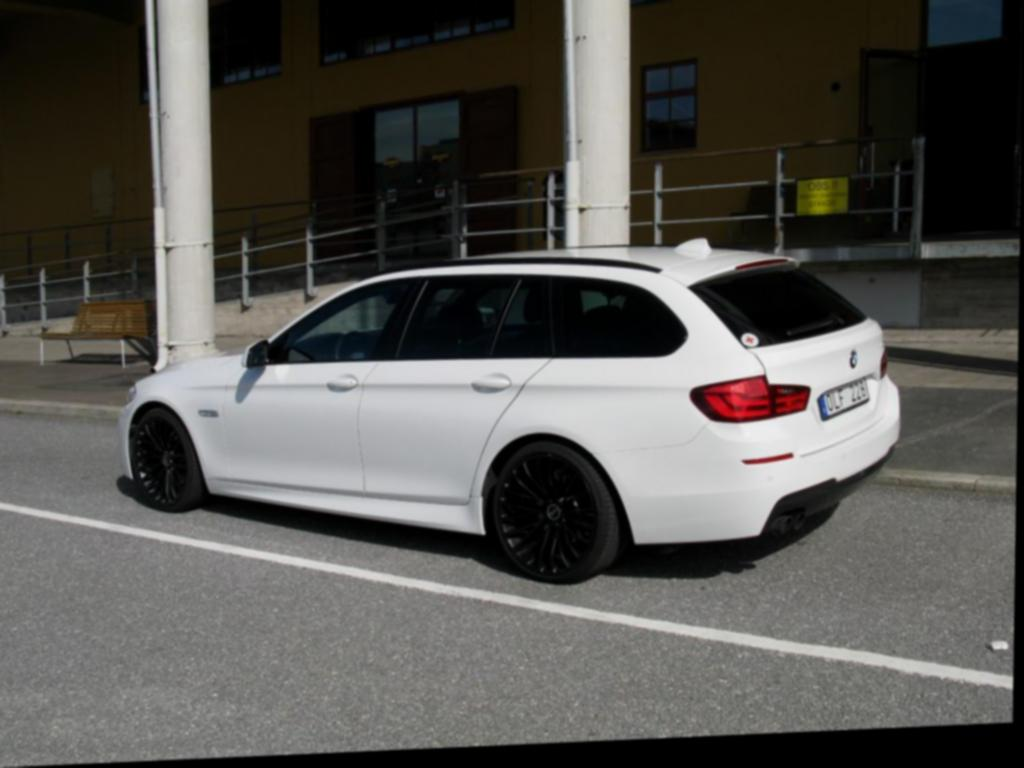License_Plate: (817, 376, 872, 423)
